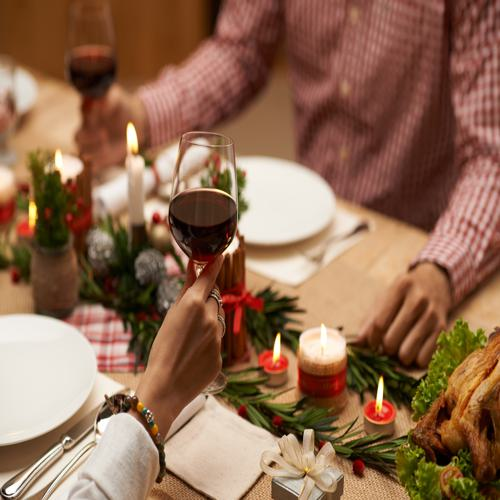copa: (173, 131, 241, 398), (66, 1, 119, 160)
